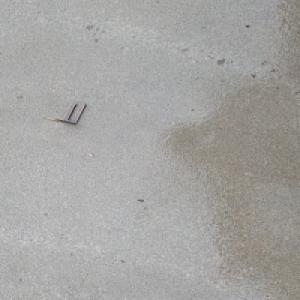MetalPart: (44, 101, 87, 124)
